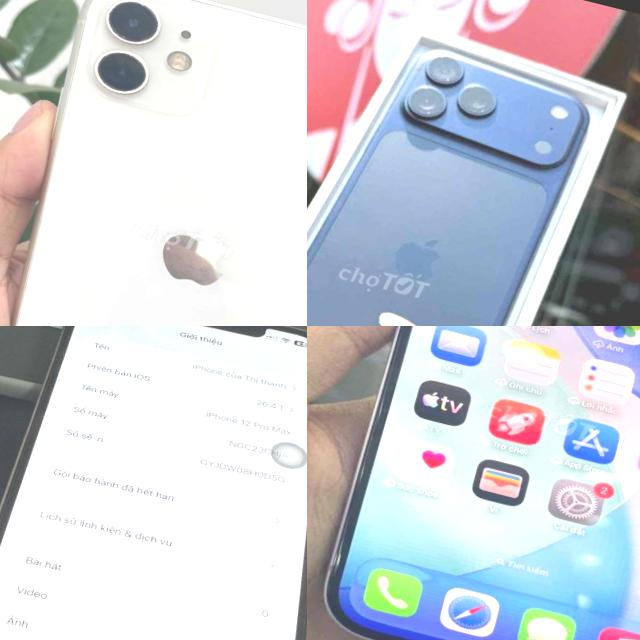gen_11: (12, 0, 307, 326)
gen_12_13: (0, 326, 307, 640)
gen_14: (307, 326, 640, 640)
gen_17: (307, 0, 586, 326)
